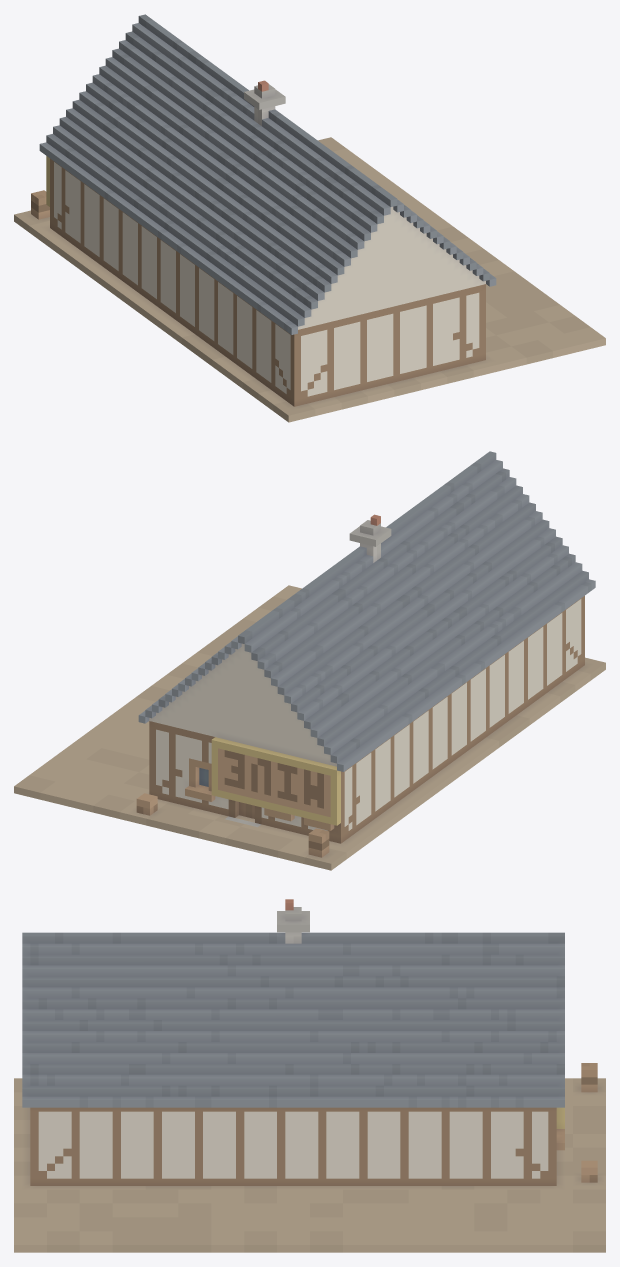
The model's file is winepress.glb.
3 renders of one model, top to bottom at view 1: azimuth 30°, elevation 25°; view 2: azimuth 150°, elevation 25°; view 3: azimuth 270°, elevation 25°, orthographic. The views are drawn at different scales.
Parts seen in each view (by area): view 1: winepress; view 2: winepress; view 3: winepress.
Part boxes in pixels (box(x1,y1,x2,y2)): winepress: box(14, 14, 605, 422); winepress: box(14, 451, 605, 870); winepress: box(14, 899, 605, 1252).
Bounding box in the file's own units: 6 × 4 × 9.
